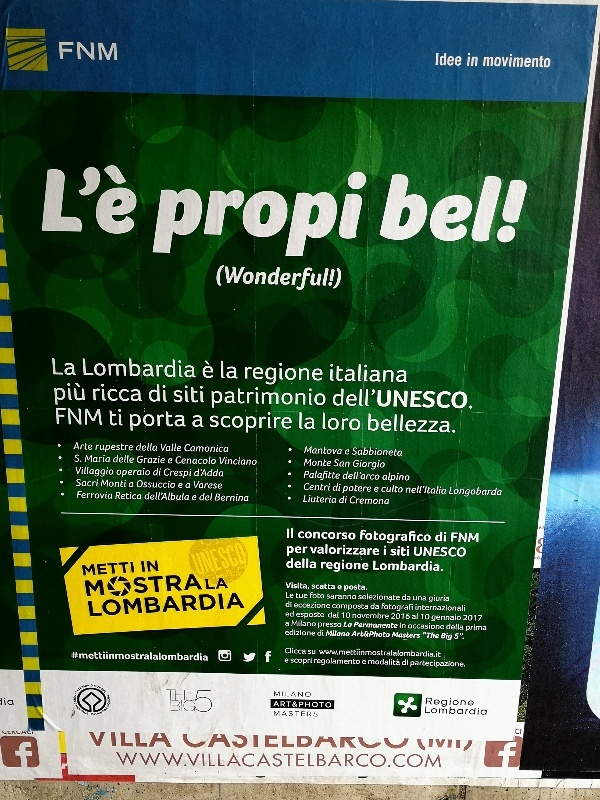text: (161, 168, 176, 261), (177, 168, 192, 261), (193, 168, 208, 261), (209, 168, 224, 261), (225, 168, 240, 261), (241, 168, 256, 261), (257, 168, 272, 261), (273, 168, 288, 261), (289, 168, 304, 261), (305, 168, 320, 261), (321, 168, 336, 261), (337, 168, 352, 261), (353, 168, 368, 261), (401, 173, 416, 246), (417, 173, 432, 246), (433, 173, 448, 246), (449, 173, 464, 246), (465, 173, 480, 246), (481, 173, 496, 246), (497, 173, 512, 246), (513, 173, 528, 246), (49, 164, 64, 235), (65, 164, 80, 235), (81, 164, 96, 235), (97, 164, 112, 235), (113, 164, 128, 235), (129, 164, 139, 235), (392, 173, 400, 246), (193, 541, 208, 577), (209, 541, 224, 577), (225, 541, 240, 577), (225, 264, 240, 297), (241, 264, 256, 297), (257, 264, 272, 297), (273, 264, 288, 297), (289, 264, 304, 297), (305, 264, 320, 297), (321, 264, 336, 297), (97, 567, 112, 600), (113, 567, 128, 600), (129, 567, 144, 600), (145, 567, 160, 600), (161, 567, 176, 600), (177, 567, 192, 600), (193, 567, 208, 600), (209, 567, 224, 600), (81, 684, 96, 717), (97, 591, 112, 620), (113, 591, 128, 620), (129, 591, 144, 620), (145, 591, 160, 620), (161, 591, 176, 620), (177, 591, 192, 620), (193, 591, 208, 620), (209, 591, 224, 620), (225, 591, 240, 620), (17, 741, 32, 770), (97, 684, 110, 717), (257, 360, 272, 387), (273, 360, 288, 387), (289, 360, 304, 387), (305, 360, 320, 387), (84, 567, 96, 600), (65, 381, 80, 406), (225, 411, 240, 436), (241, 411, 256, 436), (257, 411, 272, 436), (273, 411, 288, 436), (337, 387, 352, 411), (353, 387, 368, 411), (369, 387, 384, 411), (385, 387, 400, 411), (401, 387, 416, 411), (417, 387, 432, 411), (433, 387, 448, 411), (449, 387, 464, 411), (499, 742, 512, 769), (210, 411, 224, 436), (97, 357, 112, 380), (113, 357, 128, 380), (129, 357, 144, 380), (145, 357, 160, 380), (161, 357, 176, 380), (177, 357, 192, 380), (225, 387, 240, 410), (241, 387, 256, 410), (257, 387, 272, 410), (273, 387, 288, 410), (289, 387, 304, 410), (305, 387, 320, 410), (177, 689, 192, 712), (193, 689, 208, 712), (337, 362, 352, 384), (353, 362, 368, 384), (369, 362, 384, 384), (385, 362, 400, 384), (369, 413, 384, 435), (385, 413, 400, 435), (401, 413, 416, 435), (417, 413, 432, 435), (433, 413, 448, 435), (129, 751, 144, 773), (145, 751, 160, 773), (161, 751, 176, 773), (177, 751, 192, 773), (193, 751, 208, 773), (209, 751, 224, 773), (225, 751, 240, 773), (241, 751, 256, 773), (257, 751, 272, 773), (273, 751, 288, 773), (289, 751, 304, 773), (305, 751, 320, 773), (321, 751, 336, 773), (337, 751, 352, 773), (353, 751, 368, 773), (369, 751, 384, 773), (385, 751, 400, 773), (401, 751, 416, 773), (417, 751, 432, 773), (82, 357, 96, 380), (145, 411, 160, 432), (161, 411, 176, 432), (193, 734, 208, 755), (209, 734, 224, 755), (225, 734, 240, 755), (241, 734, 256, 755), (257, 734, 272, 755), (273, 734, 288, 755), (289, 734, 304, 755), (305, 734, 320, 755), (321, 734, 336, 755), (337, 734, 352, 755), (353, 734, 368, 755), (369, 734, 384, 755), (385, 734, 400, 755), (401, 734, 416, 755), (417, 734, 432, 755), (433, 734, 448, 755), (449, 734, 464, 755), (65, 42, 80, 62), (81, 42, 96, 62), (97, 42, 112, 62), (337, 412, 352, 432), (245, 360, 256, 387), (225, 359, 239, 380), (130, 411, 144, 432), (115, 751, 128, 773), (97, 383, 112, 402), (113, 383, 128, 402), (177, 385, 192, 404), (65, 407, 80, 426), (81, 407, 96, 426), (322, 412, 336, 432), (212, 387, 224, 410), (65, 356, 78, 377), (113, 731, 128, 749), (129, 731, 144, 749), (145, 731, 160, 749), (129, 383, 143, 402), (433, 751, 445, 773), (87, 591, 96, 620), (353, 558, 369, 574), (369, 529, 384, 546), (385, 529, 400, 546), (401, 529, 416, 546), (417, 529, 432, 546), (81, 560, 96, 577), (97, 560, 112, 577), (113, 560, 128, 577), (52, 356, 64, 377), (241, 541, 248, 577), (180, 734, 192, 755), (54, 381, 64, 406), (497, 53, 512, 69), (513, 53, 528, 69), (529, 53, 544, 69), (321, 558, 336, 574), (337, 558, 352, 574), (217, 264, 224, 297), (166, 689, 176, 712), (193, 385, 205, 404), (305, 411, 316, 431), (465, 387, 474, 411), (161, 731, 173, 749), (177, 411, 187, 432), (193, 414, 208, 428), (145, 559, 159, 574), (465, 734, 475, 755), (149, 384, 160, 403), (193, 650, 209, 663), (74, 684, 80, 717), (449, 52, 462, 67), (417, 482, 432, 495), (433, 482, 448, 495), (385, 560, 400, 573), (401, 560, 416, 573), (417, 560, 432, 573), (81, 650, 96, 663), (97, 650, 112, 663), (113, 650, 128, 663), (129, 650, 144, 663), (145, 650, 160, 663), (161, 650, 176, 663), (177, 650, 192, 663), (484, 53, 496, 69), (436, 52, 448, 67), (468, 52, 480, 67), (113, 409, 123, 427), (81, 467, 96, 479), (97, 467, 112, 479), (369, 459, 384, 471), (305, 470, 320, 482), (321, 470, 336, 482), (321, 544, 336, 556), (337, 544, 352, 556), (353, 544, 368, 556), (417, 546, 432, 558), (433, 546, 448, 558), (449, 546, 464, 558), (289, 558, 304, 570), (449, 413, 457, 435), (241, 591, 247, 620), (97, 731, 107, 748), (354, 459, 368, 471), (465, 532, 479, 544), (337, 264, 342, 297), (177, 468, 192, 479), (321, 445, 336, 456), (353, 471, 368, 482), (385, 472, 400, 483), (353, 484, 368, 495), (465, 487, 480, 498), (481, 487, 496, 498), (289, 546, 304, 557), (385, 603, 400, 614), (1, 696, 16, 707), (433, 697, 448, 708), (449, 697, 464, 708), (353, 412, 361, 432), (209, 468, 225, 478), (321, 494, 337, 504), (451, 532, 464, 544), (401, 362, 408, 384), (306, 445, 320, 456), (56, 407, 64, 426), (97, 443, 112, 453), (113, 443, 128, 453), (177, 456, 192, 466), (193, 456, 208, 466), (129, 468, 144, 478), (161, 492, 176, 502), (225, 493, 240, 503), (353, 447, 368, 457), (369, 447, 384, 457), (385, 447, 400, 457), (385, 484, 400, 494), (305, 531, 320, 541), (321, 531, 336, 541), (337, 531, 352, 541), (321, 649, 336, 659), (337, 649, 352, 659), (353, 649, 368, 659), (369, 649, 384, 659), (385, 649, 400, 659), (401, 649, 416, 659), (417, 649, 432, 659), (433, 706, 448, 716), (449, 706, 464, 716), (465, 706, 480, 716), (305, 494, 320, 504), (353, 496, 368, 506), (369, 496, 384, 506), (529, 173, 531, 246), (241, 457, 257, 466), (97, 491, 113, 500), (436, 531, 448, 543), (305, 558, 317, 570), (353, 603, 369, 612), (451, 487, 464, 498), (373, 560, 384, 573), (433, 560, 444, 573), (339, 495, 352, 506), (114, 454, 128, 464), (146, 492, 160, 502), (337, 459, 351, 469), (360, 529, 368, 546), (88, 731, 96, 748), (161, 443, 176, 452), (193, 444, 208, 453), (209, 444, 224, 453), (81, 455, 96, 464), (145, 456, 160, 465), (225, 457, 240, 466), (81, 479, 96, 488), (145, 480, 160, 489), (161, 480, 176, 489), (81, 491, 96, 500), (305, 483, 320, 492), (289, 582, 304, 591), (305, 582, 320, 591), (353, 584, 368, 593), (369, 593, 384, 602), (385, 593, 400, 602), (433, 595, 448, 604), (337, 603, 352, 612), (369, 621, 384, 630), (369, 630, 384, 639), (417, 660, 432, 669), (433, 660, 448, 669), (449, 660, 464, 669), (161, 384, 168, 403), (330, 362, 336, 384), (164, 468, 176, 479), (369, 471, 381, 482), (309, 544, 320, 556), (369, 544, 380, 556), (401, 603, 413, 614), (225, 567, 229, 600), (145, 442, 158, 452), (195, 468, 208, 478), (129, 491, 142, 501), (177, 492, 190, 502), (291, 657, 304, 667), (97, 455, 111, 464), (113, 479, 127, 488), (194, 481, 208, 490), (209, 481, 223, 490), (306, 458, 320, 467), (321, 582, 335, 591), (402, 593, 416, 602), (81, 381, 86, 406), (58, 42, 64, 62), (116, 491, 128, 501), (417, 604, 432, 612), (433, 604, 448, 612), (449, 604, 464, 612), (305, 612, 320, 620), (353, 612, 368, 620), (369, 612, 384, 620), (433, 615, 448, 623), (417, 623, 432, 631), (449, 623, 464, 631), (289, 629, 304, 637), (401, 631, 416, 639), (289, 647, 304, 655), (289, 701, 304, 709), (305, 701, 320, 709), (407, 482, 416, 495), (355, 621, 368, 630), (385, 621, 398, 630), (355, 630, 368, 639), (12, 741, 16, 770), (321, 387, 326, 410), (97, 407, 103, 426), (466, 624, 480, 632), (337, 630, 351, 638), (385, 659, 401, 666), (402, 659, 416, 667), (117, 468, 128, 478), (81, 442, 93, 451), (391, 545, 400, 557), (401, 545, 410, 557), (513, 742, 517, 769), (538, 537, 544, 555), (337, 594, 352, 601), (305, 602, 320, 609), (465, 615, 480, 622), (321, 623, 336, 630), (321, 659, 336, 666), (337, 659, 352, 666), (369, 659, 384, 666), (265, 649, 272, 664), (449, 615, 462, 623), (72, 650, 80, 663), (129, 560, 135, 577), (113, 42, 118, 62), (289, 411, 293, 436), (299, 411, 304, 431), (321, 458, 332, 467), (401, 472, 410, 483), (465, 697, 474, 708), (545, 53, 551, 69), (433, 623, 445, 631), (276, 701, 288, 709), (203, 360, 208, 379), (209, 360, 214, 379), (369, 168, 370, 261), (193, 357, 197, 380), (209, 689, 213, 712), (371, 603, 384, 610), (307, 711, 320, 718), (102, 479, 112, 488), (321, 483, 331, 492), (1, 730, 16, 736), (17, 730, 32, 736), (305, 692, 320, 698), (289, 711, 304, 717), (344, 471, 352, 482), (344, 484, 352, 495), (305, 629, 316, 637), (321, 701, 332, 709), (130, 482, 144, 488), (178, 483, 192, 489), (338, 585, 352, 591), (292, 620, 304, 627), (305, 620, 317, 627), (274, 691, 288, 697), (274, 711, 288, 717), (516, 729, 528, 736), (359, 593, 368, 602), (209, 456, 217, 466), (216, 493, 224, 503), (241, 493, 249, 503), (310, 592, 320, 600), (433, 649, 441, 659), (305, 657, 313, 667), (421, 613, 432, 620), (293, 691, 304, 698), (200, 493, 208, 502), (344, 584, 352, 593), (327, 630, 336, 638), (423, 632, 432, 640), (308, 649, 320, 655), (137, 442, 144, 452), (374, 486, 384, 493), (294, 602, 304, 609), (342, 612, 352, 619), (481, 706, 488, 716), (337, 445, 343, 456), (497, 487, 503, 498), (426, 697, 432, 708), (296, 612, 304, 620), (328, 611, 336, 619), (408, 623, 416, 631), (221, 359, 224, 380), (185, 444, 192, 453), (137, 480, 144, 489), (327, 594, 336, 601), (321, 602, 330, 609), (391, 613, 400, 620), (401, 613, 410, 620), (455, 633, 464, 640), (129, 454, 135, 464), (145, 468, 151, 478), (154, 467, 160, 477), (298, 531, 304, 541), (417, 596, 427, 602), (442, 632, 448, 642), (426, 706, 432, 716), (93, 383, 96, 402), (345, 621, 352, 629), (433, 632, 440, 640), (289, 528, 294, 539), (321, 360, 323, 387), (138, 456, 144, 465), (385, 630, 391, 639), (295, 711, 304, 717), (129, 443, 134, 453), (337, 483, 342, 493), (385, 496, 390, 506), (169, 458, 176, 465), (345, 449, 352, 456), (353, 659, 360, 666), (334, 387, 336, 411), (76, 467, 80, 479), (337, 470, 341, 482), (296, 593, 304, 599), (481, 624, 487, 632), (394, 631, 400, 639), (177, 443, 182, 452), (225, 444, 230, 453), (161, 456, 166, 465), (219, 457, 224, 466), (411, 660, 416, 669), (141, 559, 144, 574), (305, 546, 309, 557), (314, 659, 320, 666), (282, 691, 288, 698), (289, 591, 294, 599), (289, 610, 294, 618), (385, 612, 390, 620), (401, 622, 406, 630), (449, 632, 453, 642), (174, 385, 176, 404), (110, 409, 112, 427), (76, 455, 80, 464), (186, 483, 192, 489), (209, 493, 213, 502), (289, 601, 293, 610), (332, 603, 336, 612), (191, 541, 192, 577), (298, 692, 304, 698), (314, 712, 320, 718), (110, 731, 112, 749), (538, 525, 544, 531), (337, 623, 342, 630), (369, 484, 372, 495), (321, 592, 325, 600), (321, 612, 325, 620), (417, 631, 421, 639), (401, 484, 404, 494), (353, 531, 356, 541), (362, 660, 368, 665), (33, 741, 34, 770), (193, 495, 197, 502), (353, 594, 357, 601), (412, 613, 416, 620), (537, 556, 544, 560), (77, 442, 80, 451), (77, 479, 80, 488), (285, 582, 288, 591), (429, 595, 432, 604), (385, 545, 387, 557), (414, 546, 416, 558), (465, 546, 467, 558), (285, 647, 288, 655), (284, 711, 288, 717), (382, 603, 384, 614), (481, 615, 484, 622), (321, 630, 324, 637), (401, 447, 403, 457), (334, 483, 336, 493), (382, 484, 384, 494), (318, 649, 320, 659), (350, 496, 352, 506), (97, 479, 99, 488), (78, 491, 80, 500), (305, 593, 308, 599), (413, 596, 416, 602), (286, 601, 288, 610), (285, 658, 288, 664), (301, 711, 304, 717), (286, 591, 288, 599), (286, 610, 288, 618), (337, 611, 339, 619), (286, 629, 288, 637), (285, 622, 288, 627), (417, 613, 419, 620), (286, 691, 288, 698), (113, 467, 114, 479), (385, 459, 386, 471), (287, 558, 288, 570), (383, 472, 384, 483), (287, 528, 288, 539), (287, 546, 288, 557), (161, 467, 162, 477), (335, 459, 336, 469), (449, 595, 450, 604), (465, 660, 466, 669), (465, 604, 466, 612), (447, 623, 448, 631), (305, 647, 306, 655), (319, 623, 320, 630), (319, 630, 320, 637), (289, 691, 290, 698), (33, 730, 34, 736), (305, 711, 306, 717), (289, 622, 290, 627)
